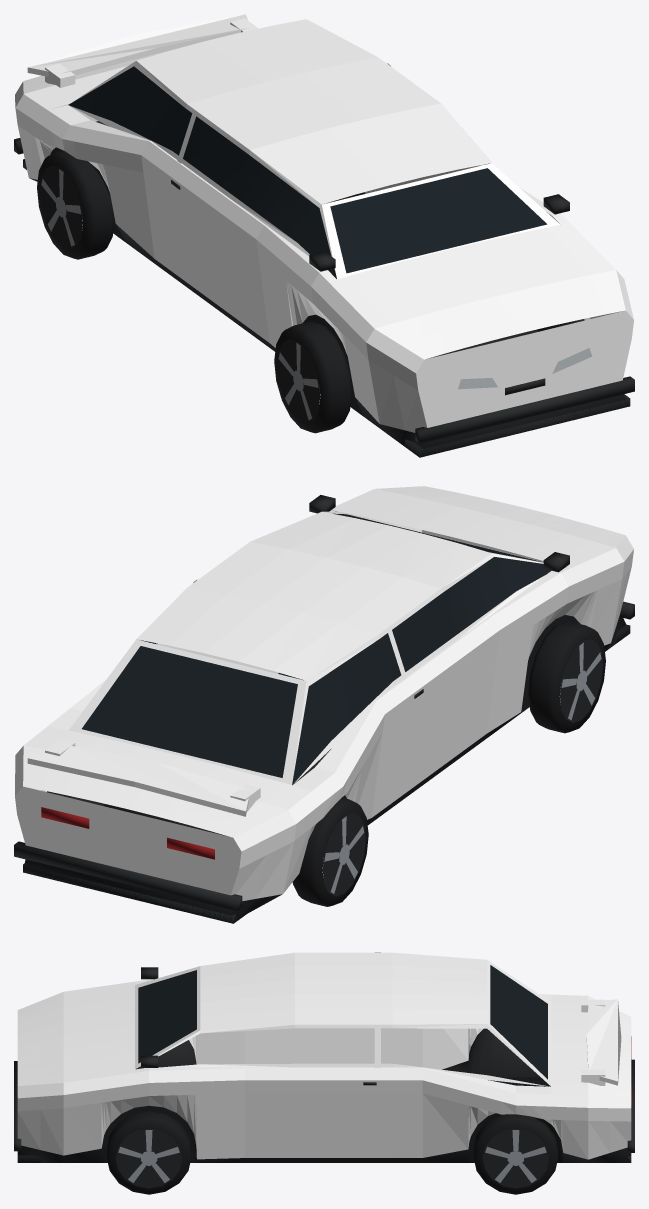
Rendered from bancroft_rugido.glb.
3 renders of one model, top to bottom at view 1: azimuth 30°, elevation 25°; view 2: azimuth 150°, elevation 25°; view 3: azimuth 270°, elevation 25°, orthographic. The views are drawn at different scales.
Parts seen in each view (by area): view 1: Body_Paint, Body_Details, Mount_FrontLeft_Wheel_Details, Mount_RearLeft_Wheel_Details; view 2: Body_Paint, Body_Details, Mount_FrontLeft_Wheel_Details, Mount_RearLeft_Wheel_Details; view 3: Body_Paint, Body_Details, Mount_FrontRight_Wheel_Details, Mount_RearRight_Wheel_Details.
Part boxes in pixels (left/top/right/bottom): Body_Paint: left=15, top=14, right=633, bottom=432; Body_Details: left=14, top=66, right=634, bottom=457; Mount_FrontLeft_Wheel_Details: left=274, top=321, right=351, bottom=433; Mount_RearLeft_Wheel_Details: left=37, top=150, right=114, bottom=259; Body_Paint: left=15, top=486, right=633, bottom=901; Body_Details: left=14, top=495, right=634, bottom=923; Mount_FrontLeft_Wheel_Details: left=528, top=621, right=605, bottom=733; Mount_RearLeft_Wheel_Details: left=292, top=797, right=368, bottom=906; Body_Paint: left=17, top=952, right=631, bottom=1159; Body_Details: left=14, top=965, right=634, bottom=1162; Mount_FrontRight_Wheel_Details: left=106, top=1111, right=191, bottom=1194; Mount_RearRight_Wheel_Details: left=473, top=1114, right=558, bottom=1194.
Size of the model in its own units: 1.9 by 1.3 by 4.66.
2 materials, 1 textured.
